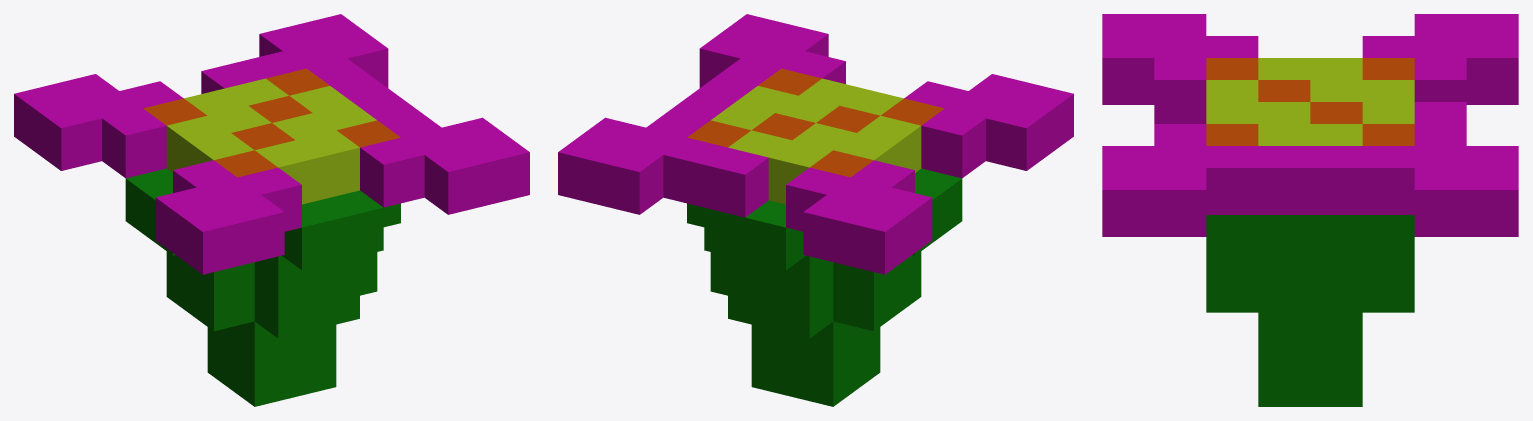
Rendered from flower.glb.
3 renders of one model, left to right at view 1: azimuth 30°, elevation 25°; view 2: azimuth 150°, elevation 25°; view 3: azimuth 270°, elevation 25°, orthographic. The views are drawn at different scales.
Parts seen in each view (by area): view 1: node0; view 2: node0; view 3: node0.
Part boxes in pixels (x1,y1,x2,y2): node0: (14,14,529,406); node0: (558,14,1073,406); node0: (1102,14,1518,406).
Bounding box in the file's own units: 0.8 × 0.6 × 0.8.
1 material, 1 textured.
